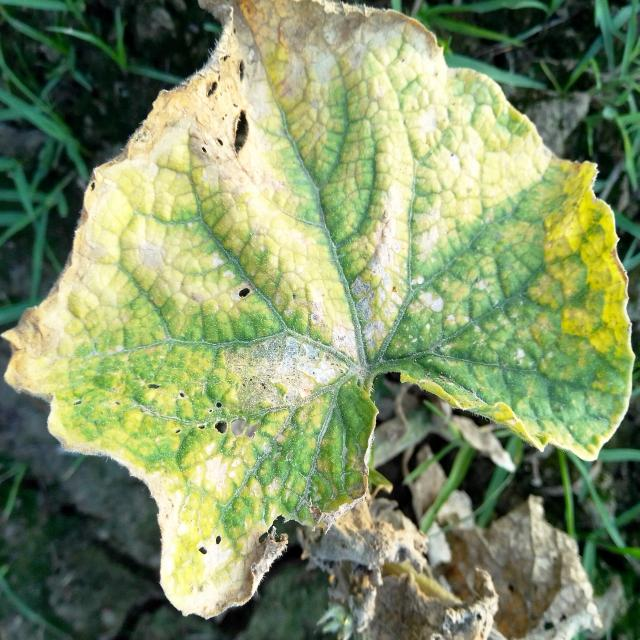Gummy-Stem-Blight: (2, 0, 463, 403), (109, 450, 367, 619)
